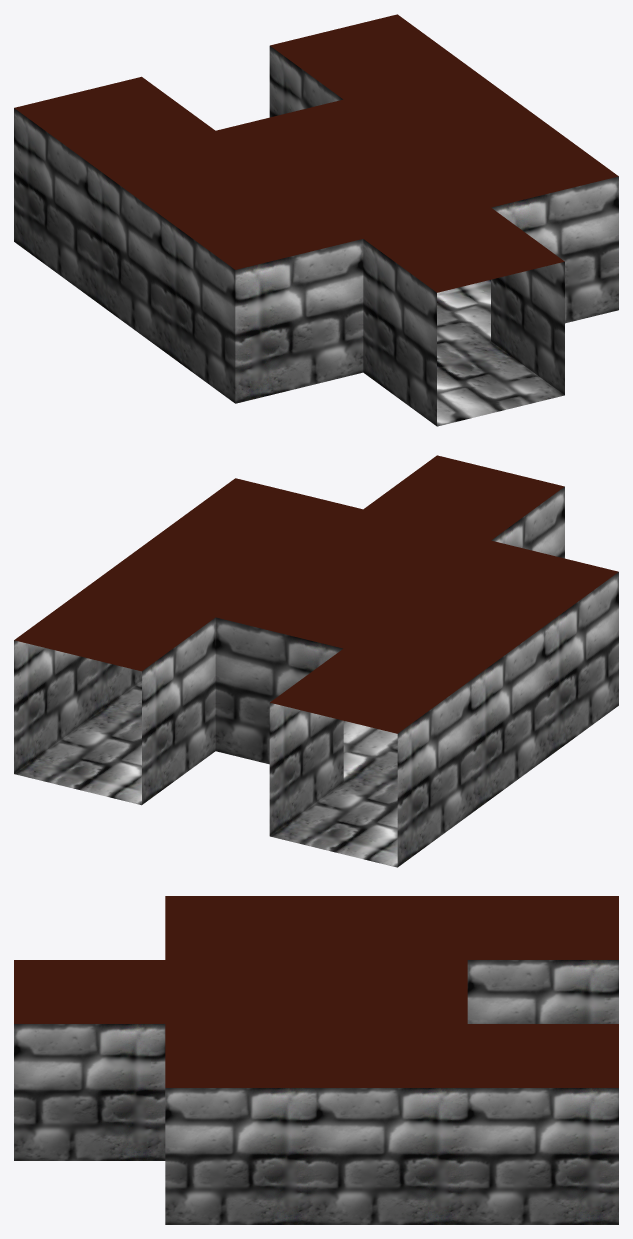
File: castle_Y1.fbx
3 views of the same model, one above another, from view 1: azimuth 30°, elevation 25°; view 2: azimuth 150°, elevation 25°; view 3: azimuth 270°, elevation 25° (orthographic). The views are drawn at different scales.
Visible parts, largest first — view 1: Plane.156; view 2: Plane.156; view 3: Plane.156.
Boxes of the visible parts, <box> form: Plane.156: <box>14,14,618,426</box>; Plane.156: <box>14,455,618,867</box>; Plane.156: <box>14,896,618,1224</box>.
Size of the model in its own units: 1200 by 400 by 1600.
Materials: 2 (1 with a texture image).
